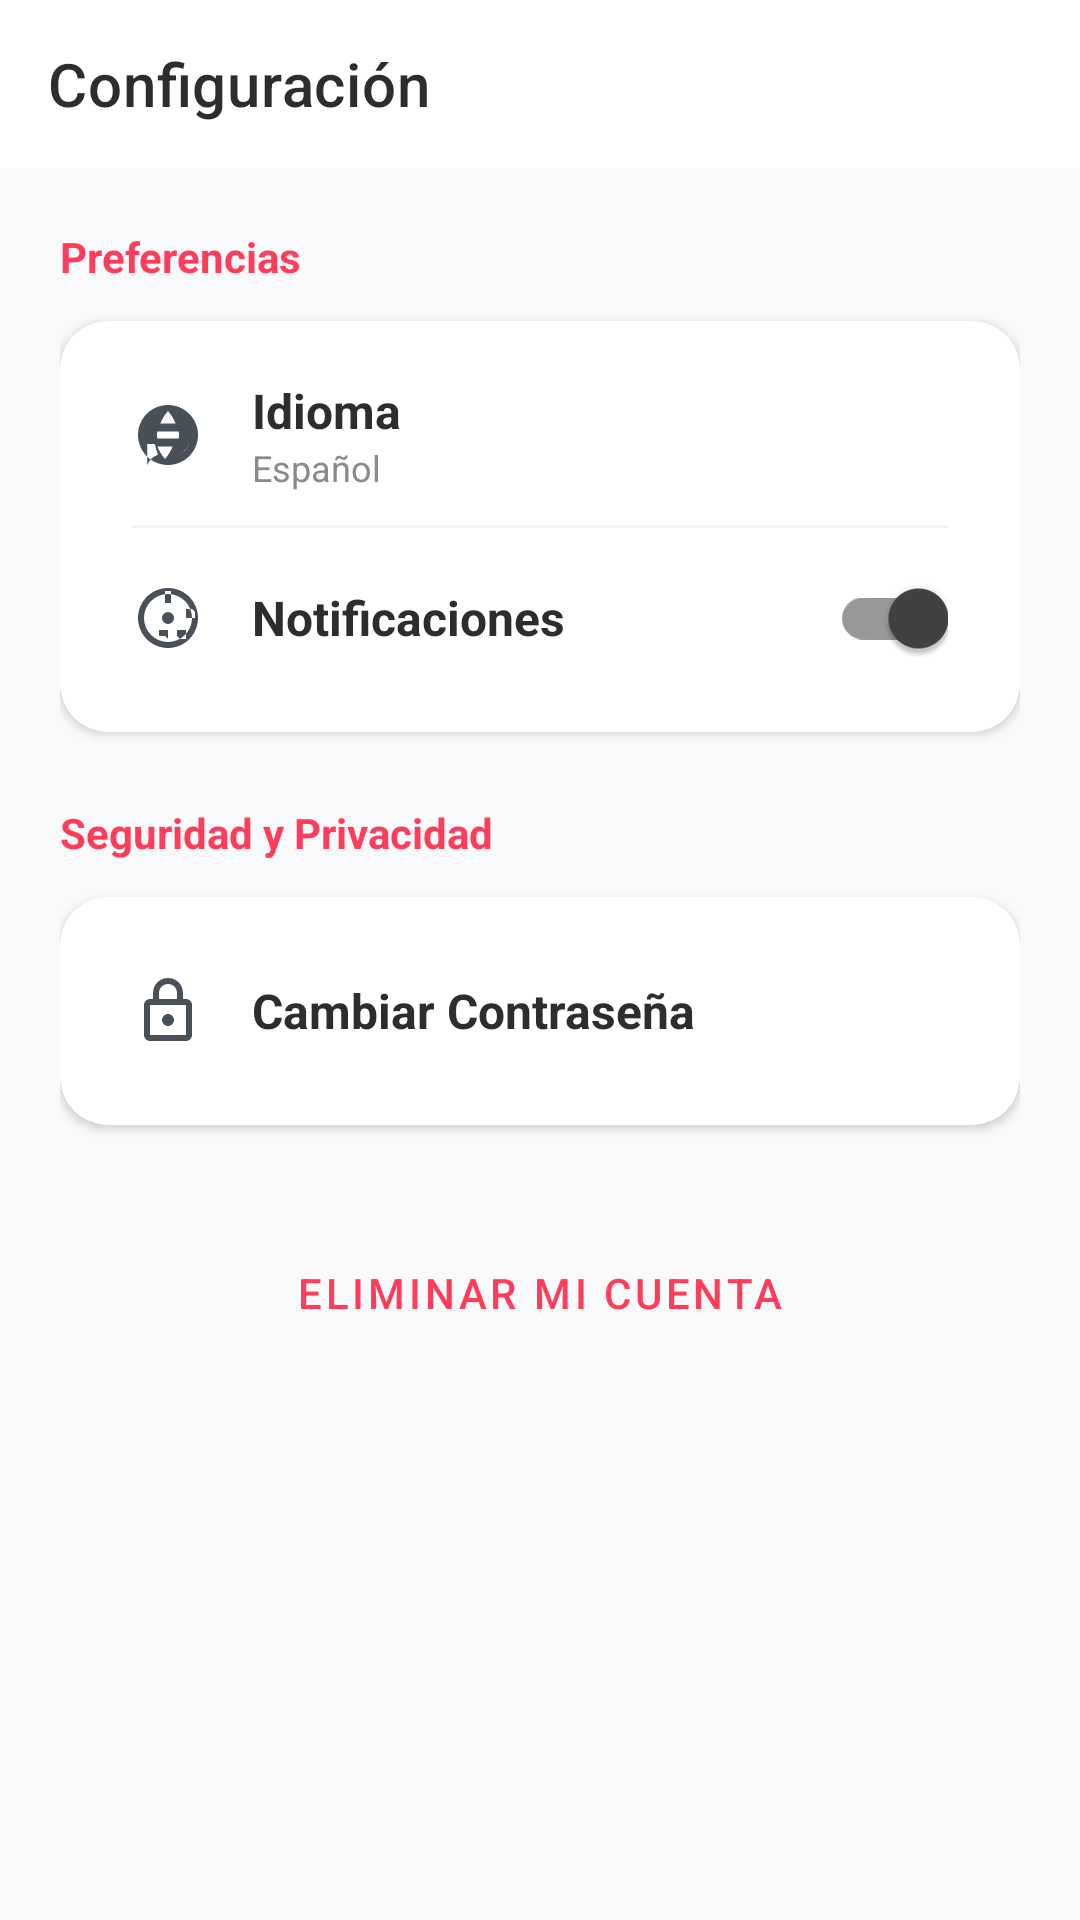

Named icons in this screenshot (1080x1920) and their centers, point (x, y):
lock: point (168, 1009)
